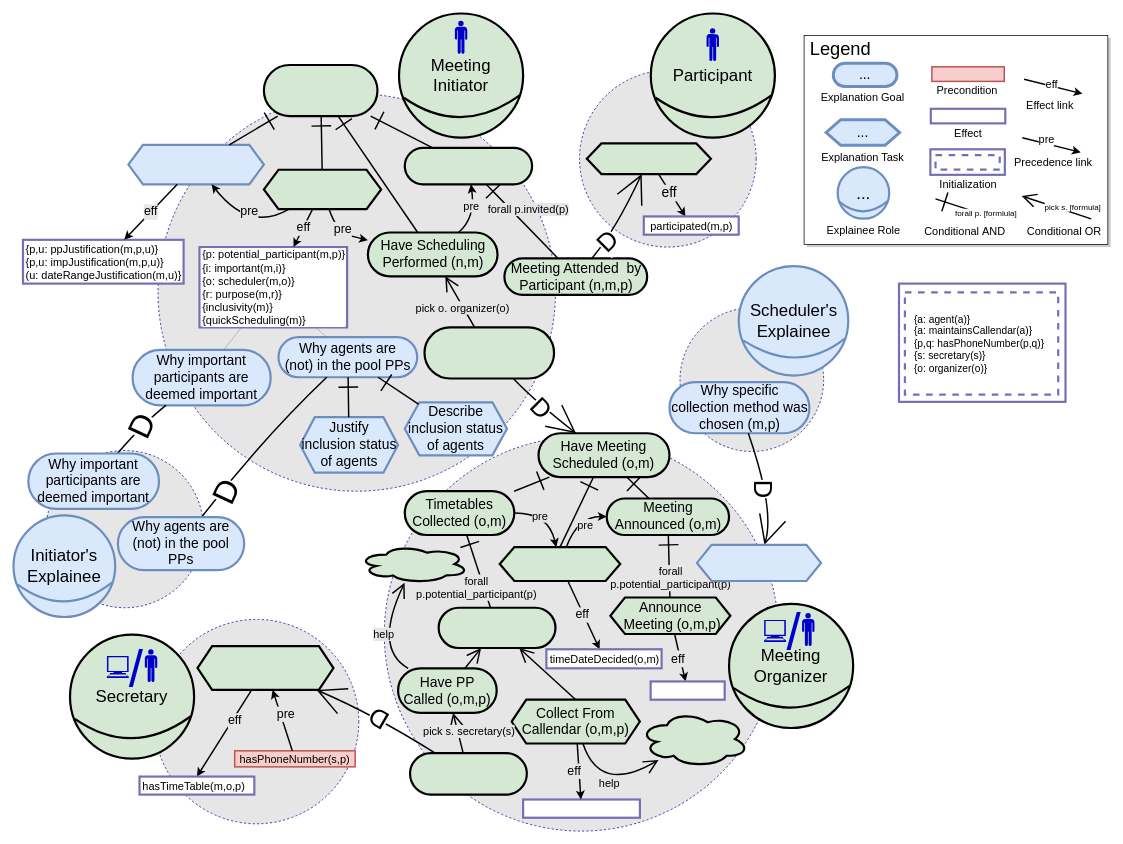
The diagram is 1123 pixels wide and 844 high, and some of its shapes have lost their labels. Here are the shapes that lost their labels. From the top down, the centre of each, then its label:
At point (320, 90): "Have Meeting Organized (n,m)".
At point (196, 164): "Enter Detailed Justifications (n,m)".
At point (468, 165): "Meeting Attended (n,m)".
At point (648, 158): "Participate (m,p)".
At point (322, 189): "Decide Meeting Details (n,m)".
At point (489, 352): "Have Scheduling Performed by Organizer(n,o,m)".
At point (413, 564): "Inclusivity".
At point (559, 564): "Choose Time and Date (o,m)".
At point (758, 562): "Explain Collection Method (m,p)".
At point (496, 627): "Timetable Collected (o,m,p)".
At point (265, 668): "Collect Constraints by Phone (o,t,m,p)".
At point (687, 690): "invited(m,p)".
At point (693, 739): "Quick Scheduling".
At point (468, 773): "Have Secretary Call PP (o,t,m,p)".
At point (581, 808): "hasTimeTable (m,o,p)".
